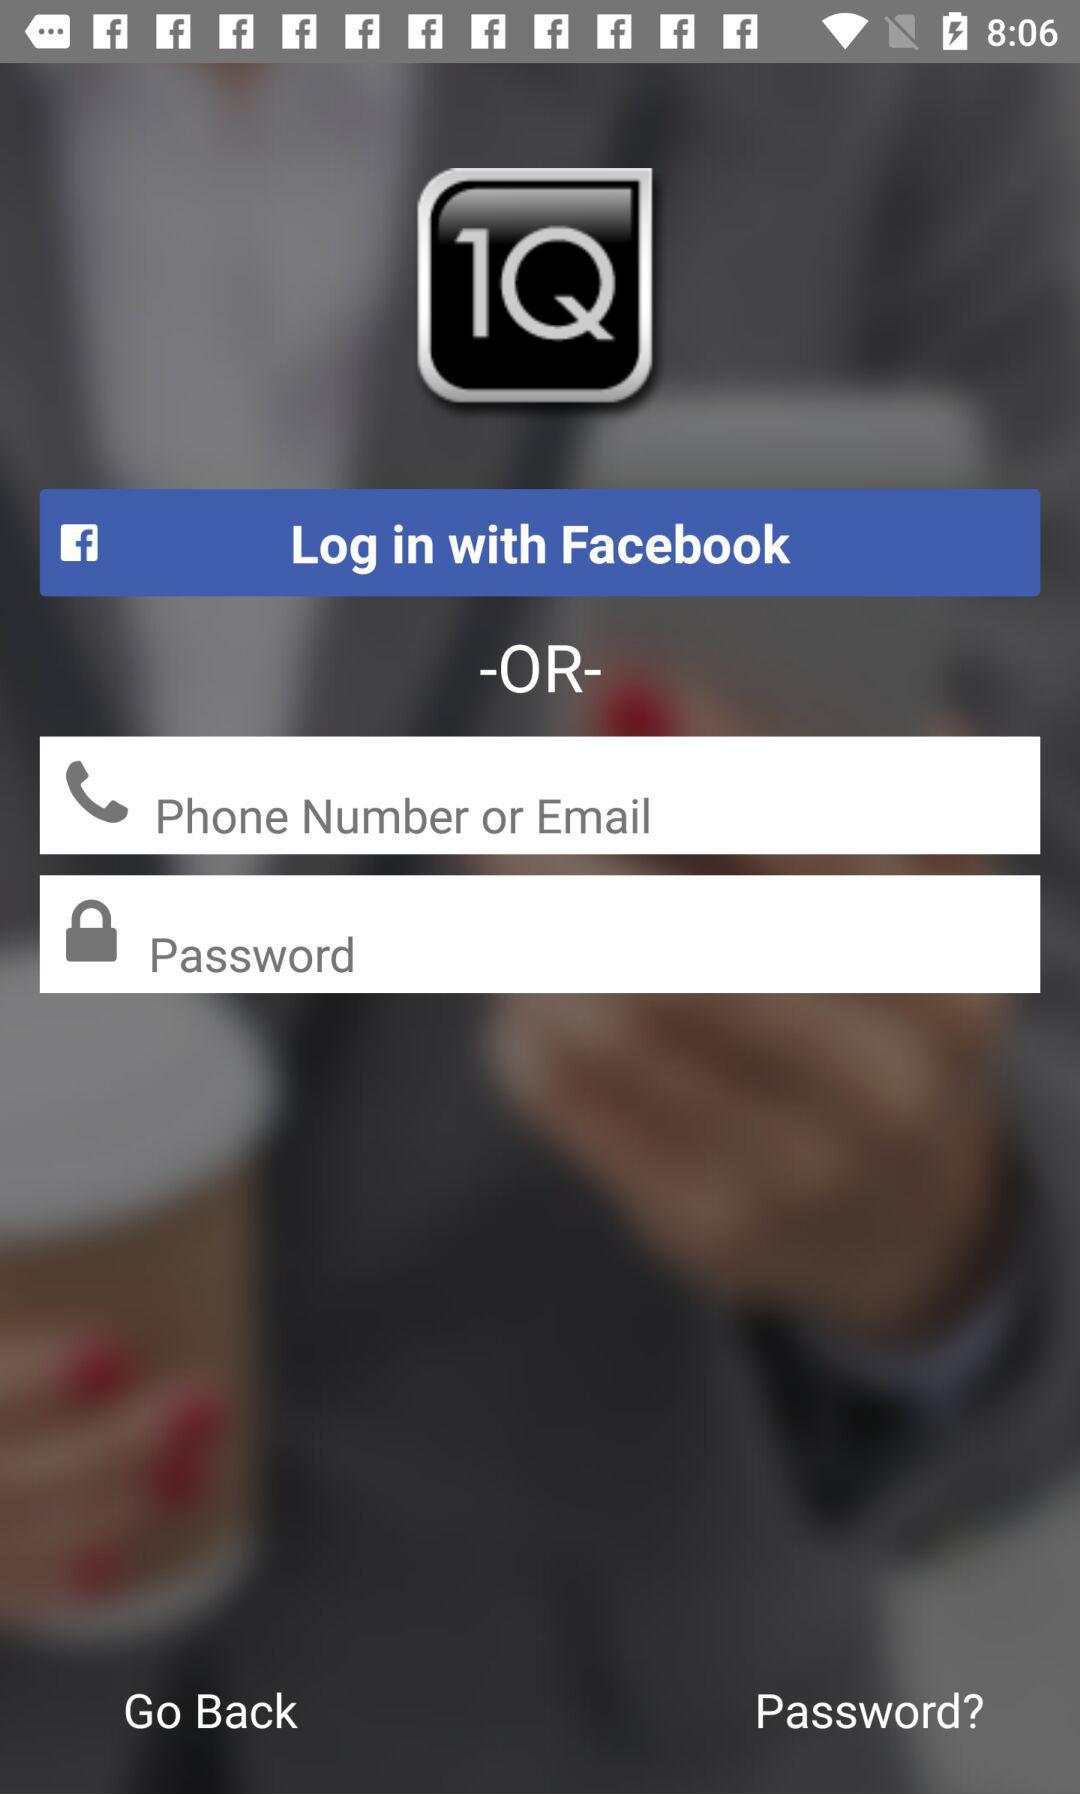BackgroundImage: (1, 64, 1080, 1794)
EditText: (40, 736, 1042, 856), (40, 874, 1042, 994)
Icon: (67, 900, 119, 964)
Image: (416, 168, 655, 405), (67, 760, 129, 824)
Text: (158, 777, 650, 815), (757, 1691, 984, 1730), (158, 916, 360, 953), (126, 1691, 299, 1731), (480, 645, 602, 695)
TextButton: (40, 490, 1042, 598)
UpperTaskBar: (1, 1, 1080, 64)
